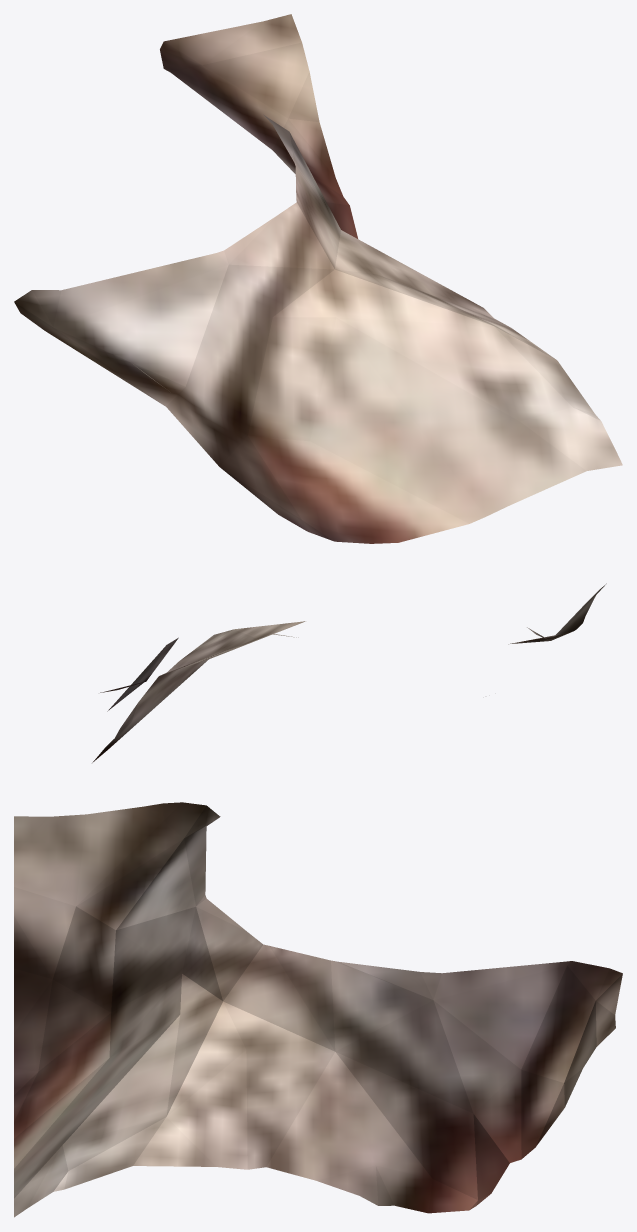
3 renders of one model, top to bottom at view 1: azimuth 30°, elevation 25°; view 2: azimuth 150°, elevation 25°; view 3: azimuth 270°, elevation 25°, orthographic. The views are drawn at different scales.
Size of the model in its own units: 0.2042 by 0.0886 by 0.2327.
1 material, 1 textured.
